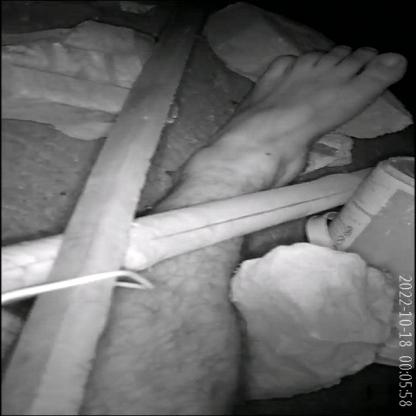leg: (116, 28, 415, 416)
